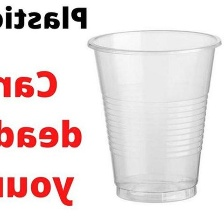glass: (82, 25, 224, 203)
